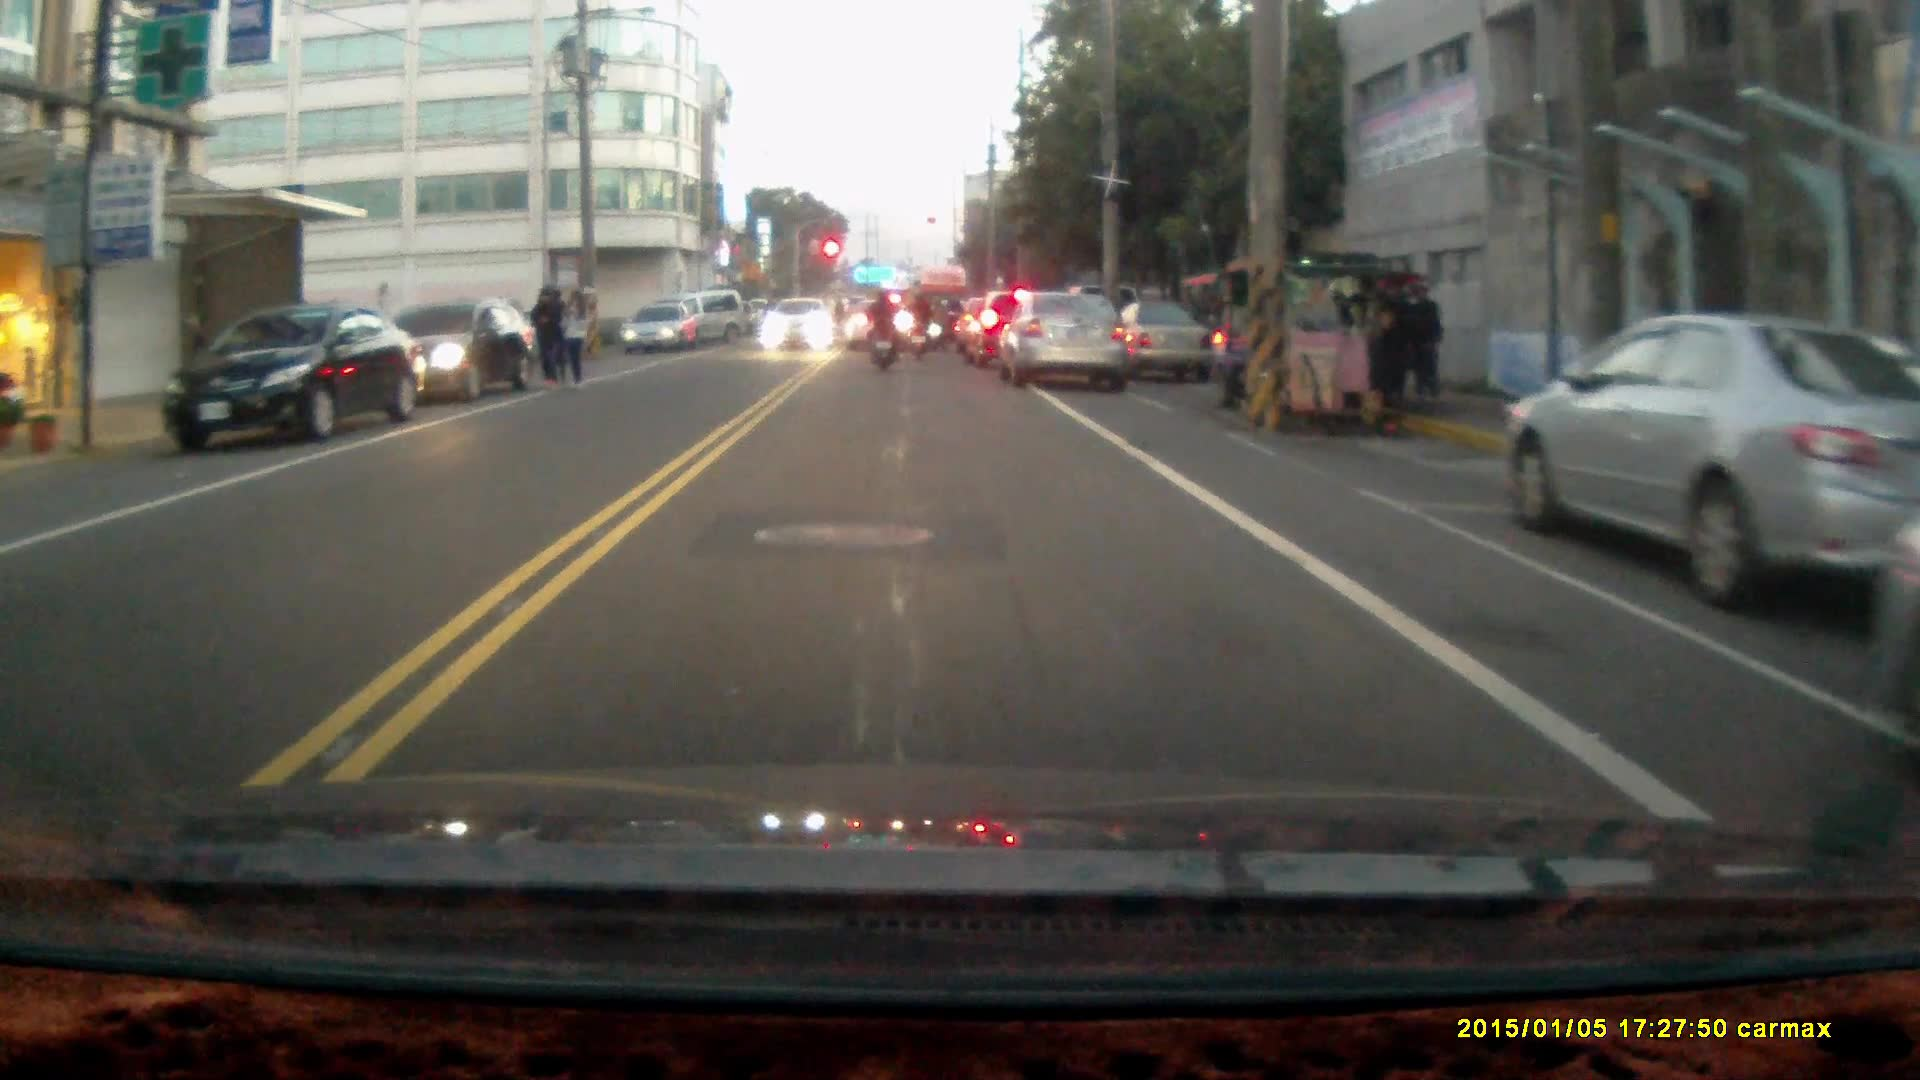pedestrian: (1404, 280, 1448, 407), (528, 282, 568, 390), (561, 287, 589, 390)
rider: (864, 284, 899, 372), (904, 287, 935, 361)
vehicle: (1500, 314, 1920, 617), (1208, 252, 1436, 428), (166, 301, 420, 448), (389, 298, 543, 405), (1004, 289, 1136, 391), (765, 294, 842, 353), (625, 300, 707, 351)
